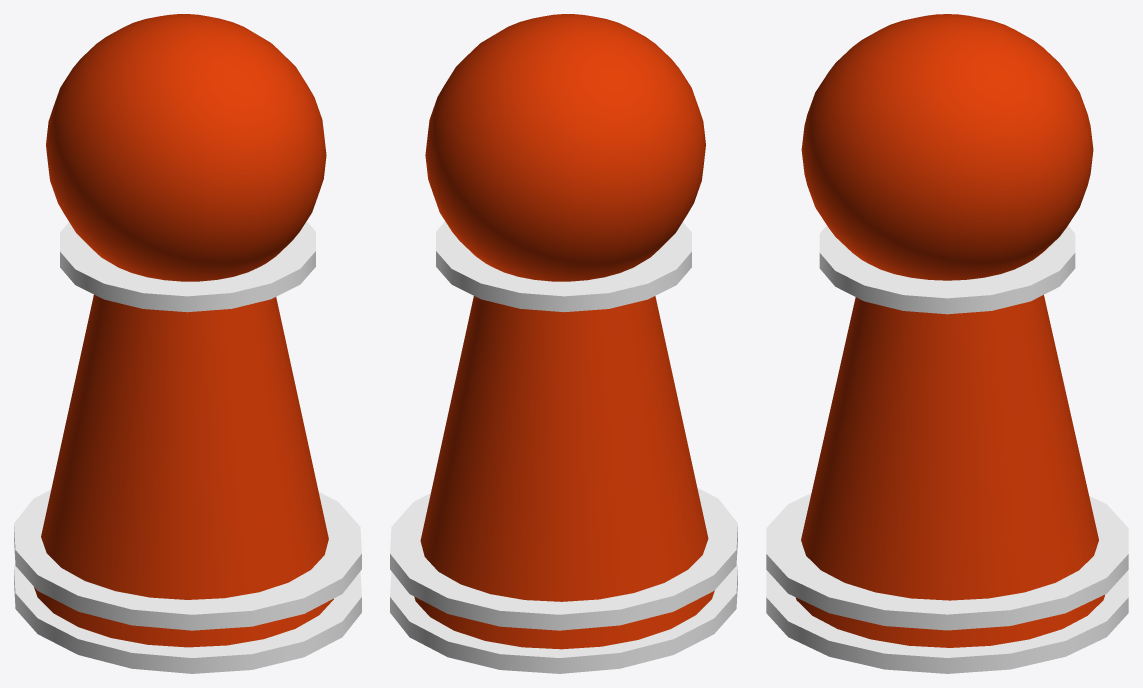
The model's file is Non-Smoker NPC.DAE.
3 views of the same model, side by side, from view 1: azimuth 30°, elevation 25°; view 2: azimuth 150°, elevation 25°; view 3: azimuth 270°, elevation 25° (orthographic).
Parts seen in each view (by area): view 1: Sphere001; view 2: Sphere001; view 3: Sphere001.
Boxes of the visible parts, left/top/right/bottom form: Sphere001: left=14, top=14, right=361, bottom=673; Sphere001: left=390, top=14, right=737, bottom=673; Sphere001: left=766, top=14, right=1128, bottom=673.
Size of the model in its own units: 0.2085 by 0.378 by 0.2169.
